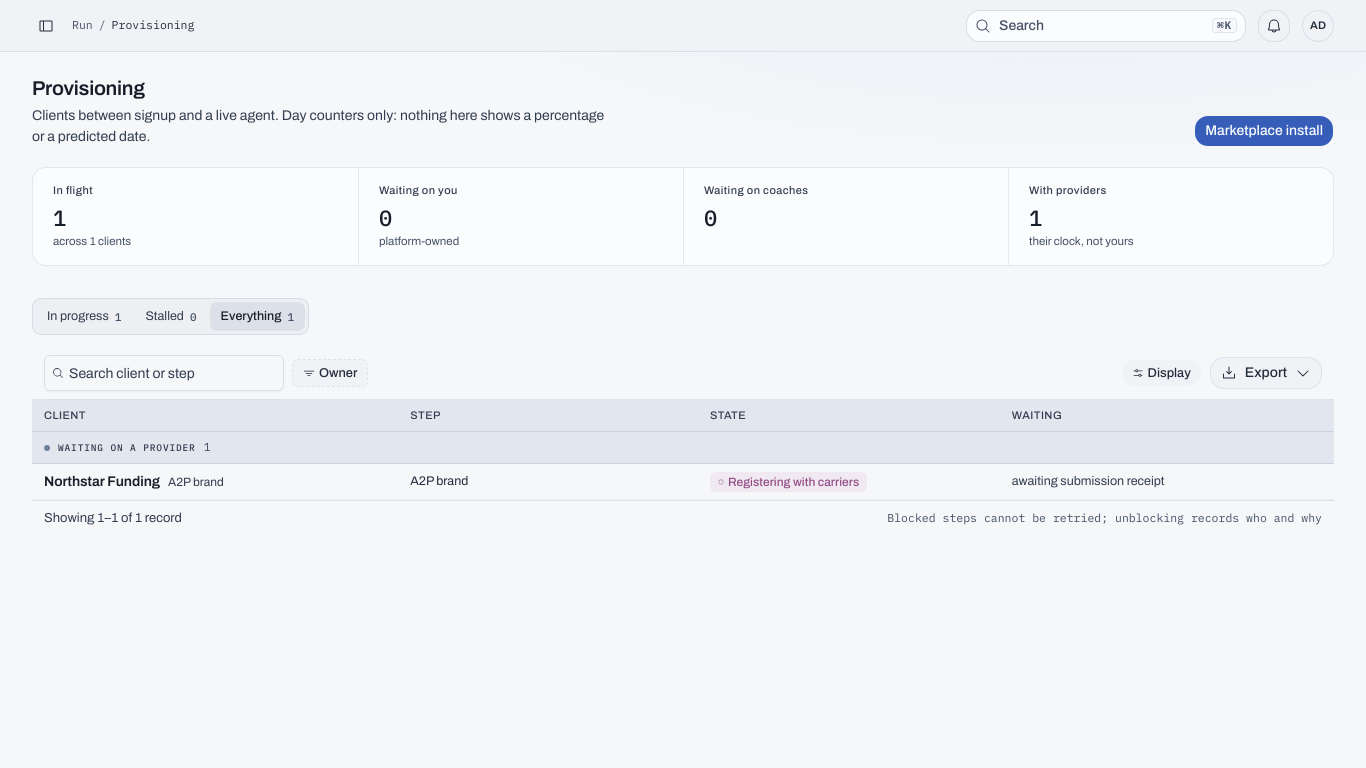
Test: AdminProvisioning summary › offers owner filters the rows can actually match
The width and height of the screenshot is (1366, 768).
Click the button "Owner": [330, 373] box [292,359,368,387]
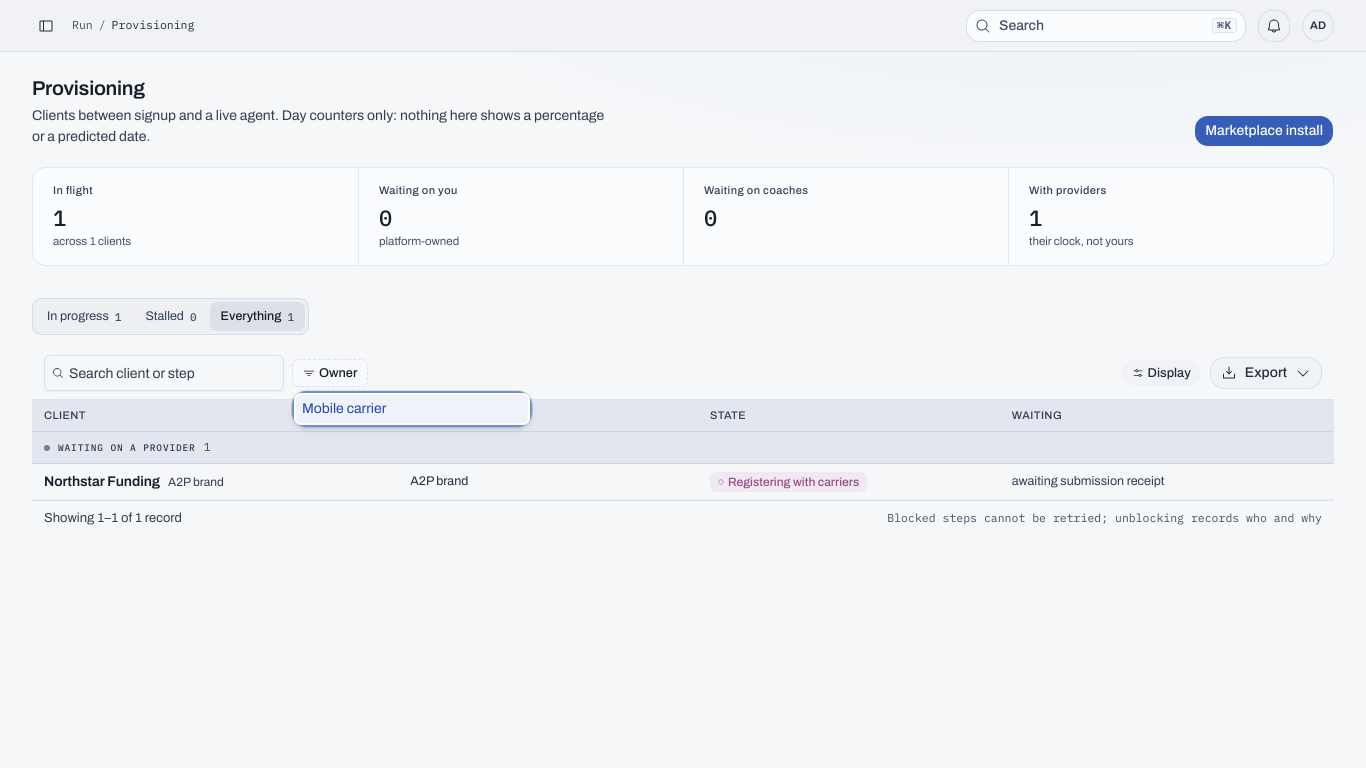
Check: the menu item "Mobile carrier" is shown, box [296,395,528,423]
